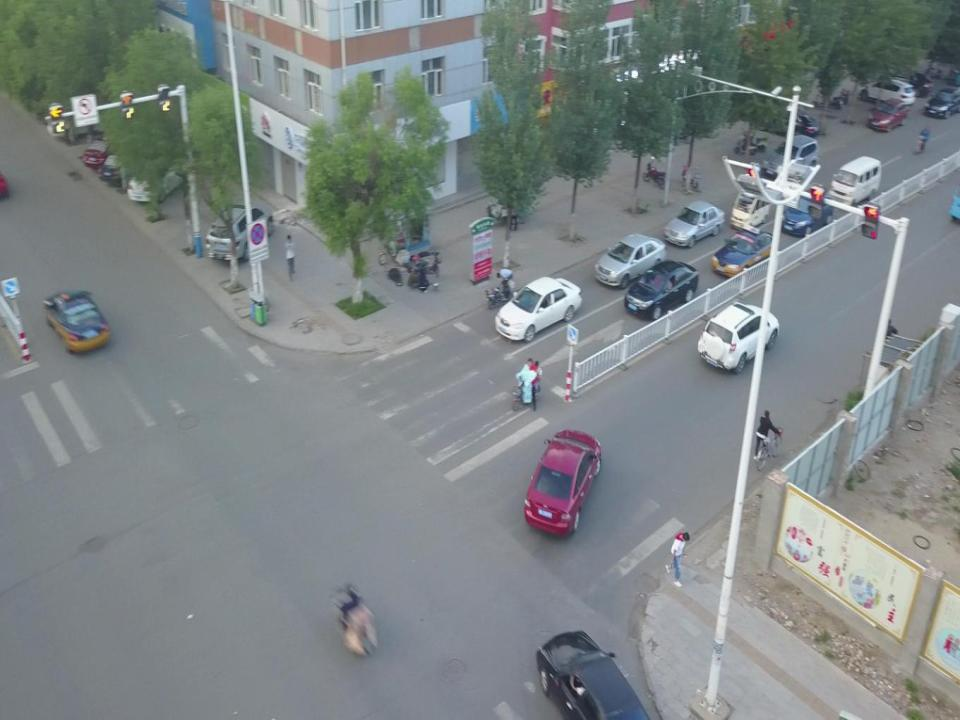car: (536, 629, 650, 720), (522, 428, 602, 536), (697, 300, 780, 375), (493, 274, 583, 342), (624, 258, 700, 321), (42, 289, 111, 356), (96, 130, 179, 184), (593, 233, 668, 290), (205, 200, 274, 260), (711, 222, 778, 280), (126, 151, 199, 202), (82, 120, 145, 170), (663, 200, 726, 250), (761, 134, 820, 184), (780, 188, 834, 237), (857, 77, 916, 107), (868, 97, 909, 133), (884, 68, 935, 96), (924, 87, 960, 118)
van: (829, 155, 882, 207)
